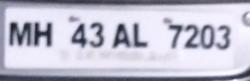0: (200, 23, 215, 49)
2: (185, 24, 199, 49)
3: (89, 21, 106, 49), (216, 24, 232, 52)
4: (70, 22, 88, 49)
7: (166, 22, 183, 49)
A: (111, 23, 132, 51)
H: (34, 21, 55, 48)
L: (132, 23, 150, 50)
M: (7, 20, 32, 47)
